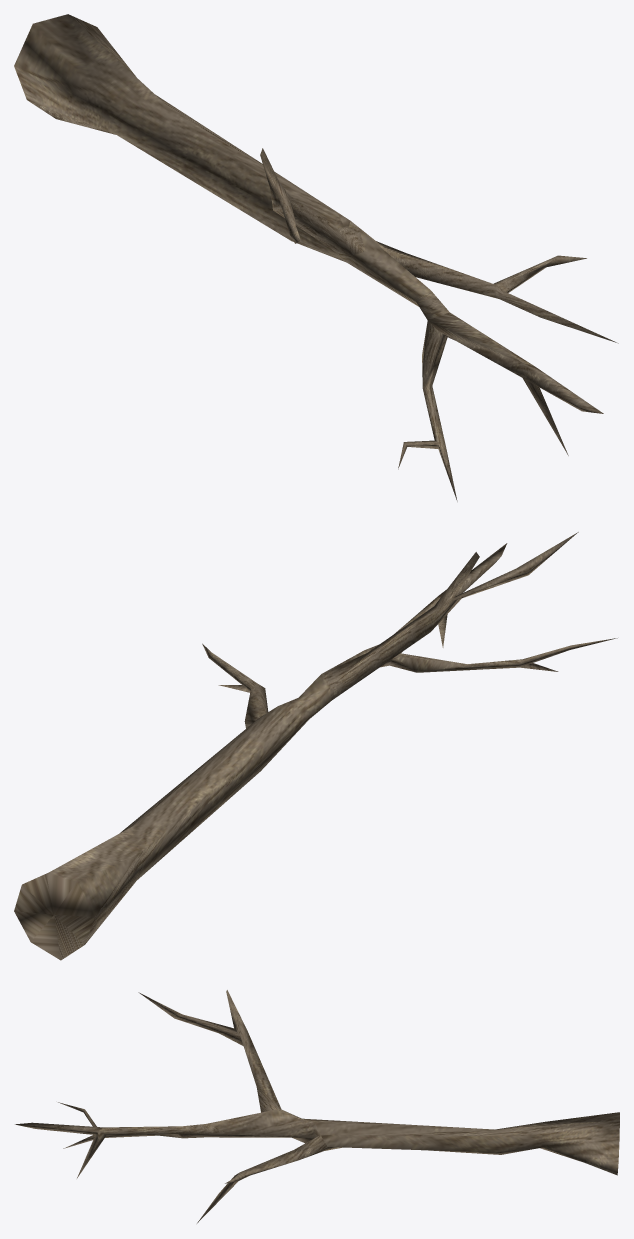
Rendered from fallen tree_2.fbx.
3 views of the same model, one above another, from view 1: azimuth 30°, elevation 25°; view 2: azimuth 150°, elevation 25°; view 3: azimuth 270°, elevation 25° (orthographic). The views are drawn at different scales.
Parts seen in each view (by area): view 1: fallen tree_2; view 2: fallen tree_2; view 3: fallen tree_2.
Boxes of the visible parts, box(x1,y1,x2,y2) form: fallen tree_2: box(14, 14, 618, 501); fallen tree_2: box(14, 532, 617, 960); fallen tree_2: box(15, 990, 619, 1223).
Bounding box in the file's own units: 164 × 110 × 412.
